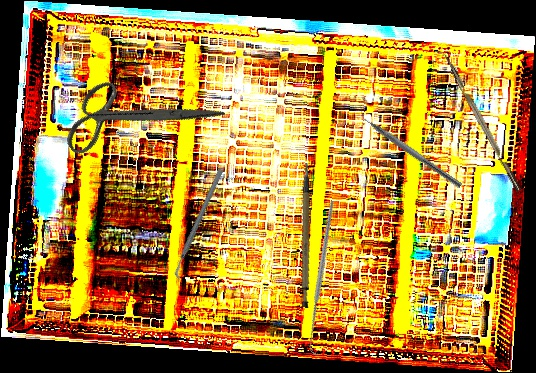Chopper: (433, 45, 522, 196), (141, 168, 257, 282), (352, 104, 468, 189)
Hook Surgical: (248, 199, 399, 356)
Iris Scissors: (49, 33, 226, 201)
Scalpel Handle: (281, 162, 334, 309)
